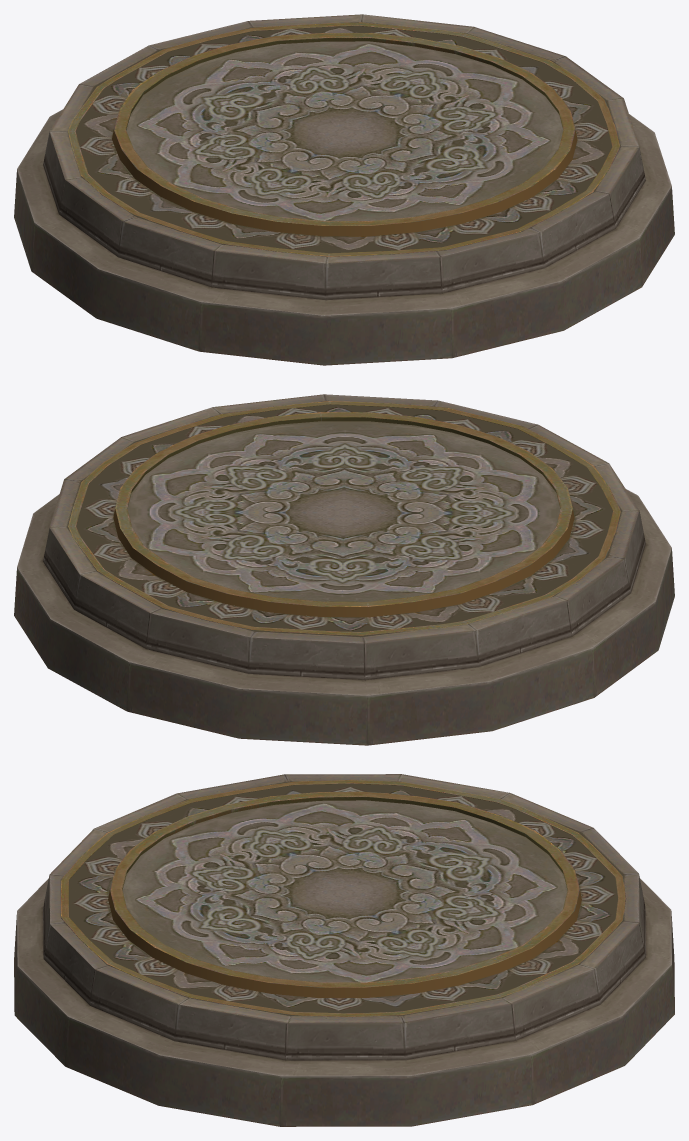
File: S7_xuanrenjiemian_taqizi01.FBX
3 views of the same model, one above another, from view 1: azimuth 30°, elevation 25°; view 2: azimuth 150°, elevation 25°; view 3: azimuth 270°, elevation 25° (orthographic).
Parts seen in each view (by area): view 1: S7_xuanrenjiemian_taqizi01; view 2: S7_xuanrenjiemian_taqizi01; view 3: S7_xuanrenjiemian_taqizi01.
Part boxes in pixels (bbox=[...]): S7_xuanrenjiemian_taqizi01: bbox=[14, 14, 674, 365]; S7_xuanrenjiemian_taqizi01: bbox=[14, 394, 674, 745]; S7_xuanrenjiemian_taqizi01: bbox=[14, 774, 674, 1126].
Bounding box in the file's own units: 7.9 × 1.29 × 7.9.
1 material, 1 textured.
